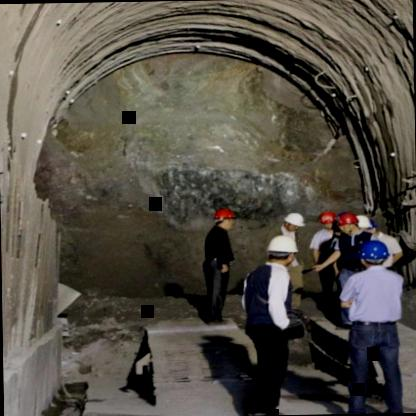helmet: (262, 233, 295, 266), (359, 238, 393, 270), (210, 204, 235, 230), (278, 210, 305, 233), (313, 208, 337, 231), (337, 210, 357, 235)
